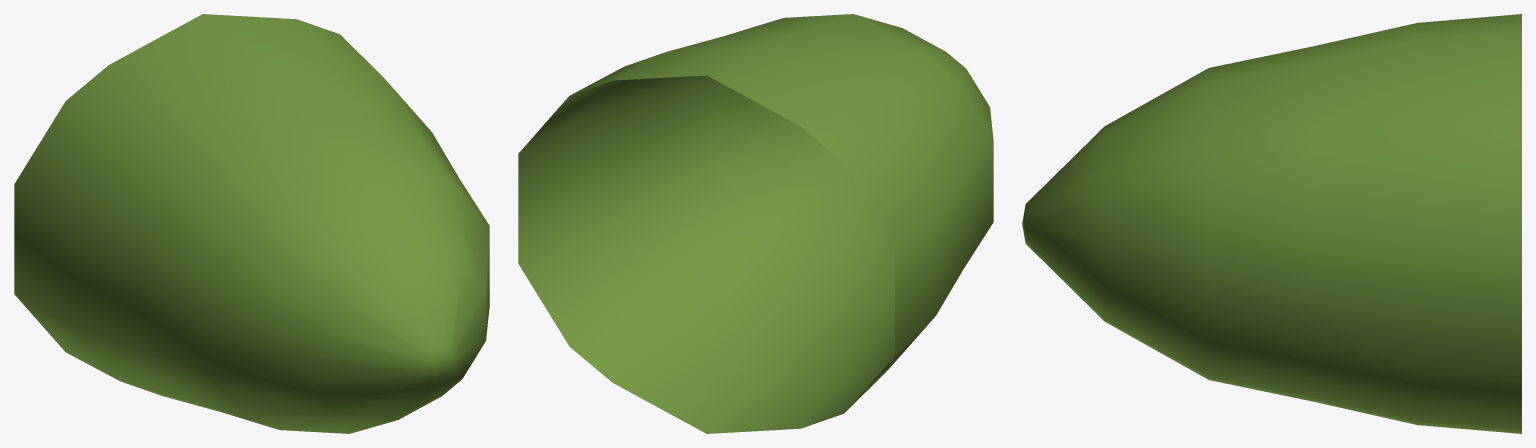
File: tail_low.fbx
3 views of the same model, side by side, from view 1: azimuth 30°, elevation 25°; view 2: azimuth 150°, elevation 25°; view 3: azimuth 270°, elevation 25° (orthographic). The views are drawn at different scales.
Visible parts, largest first — view 1: tail; view 2: tail; view 3: tail.
Boxes of the visible parts, x1,y1,x2,y2 form: tail: (14, 14, 489, 433); tail: (518, 14, 993, 433); tail: (1022, 14, 1521, 433).
Bounding box in the file's own units: 88.88 × 80.86 × 95.81.
1 material, 1 textured.
